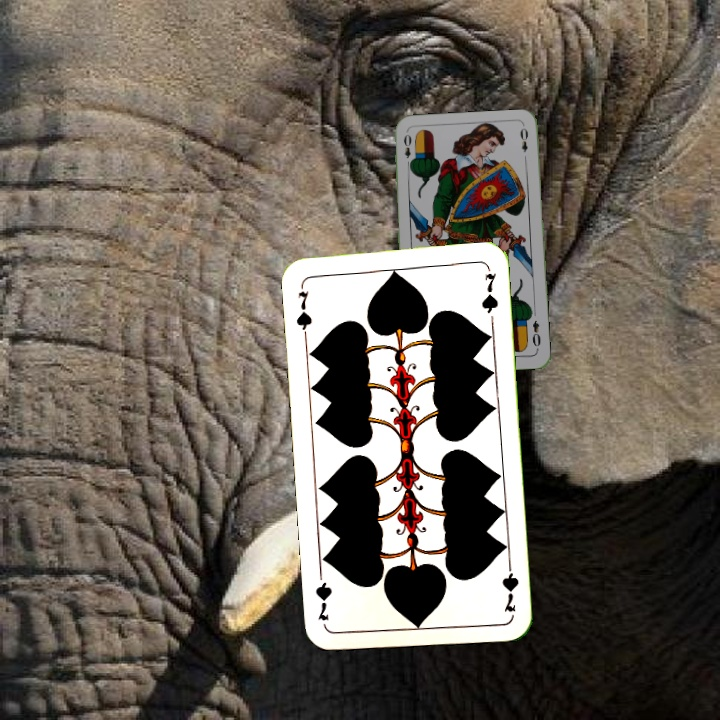EO: (400, 130, 415, 170), (529, 316, 543, 352)
G7: (498, 556, 521, 615), (292, 279, 315, 338)
